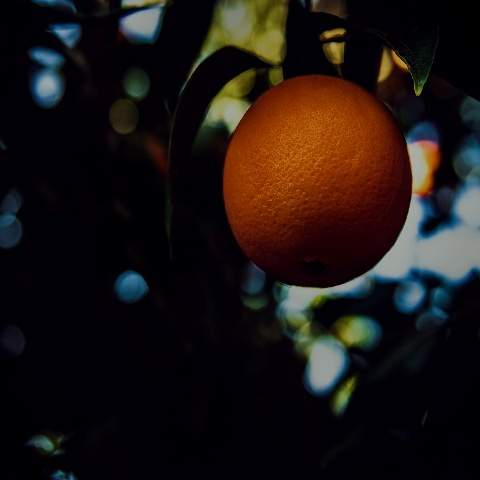orange: (203, 71, 451, 296)
